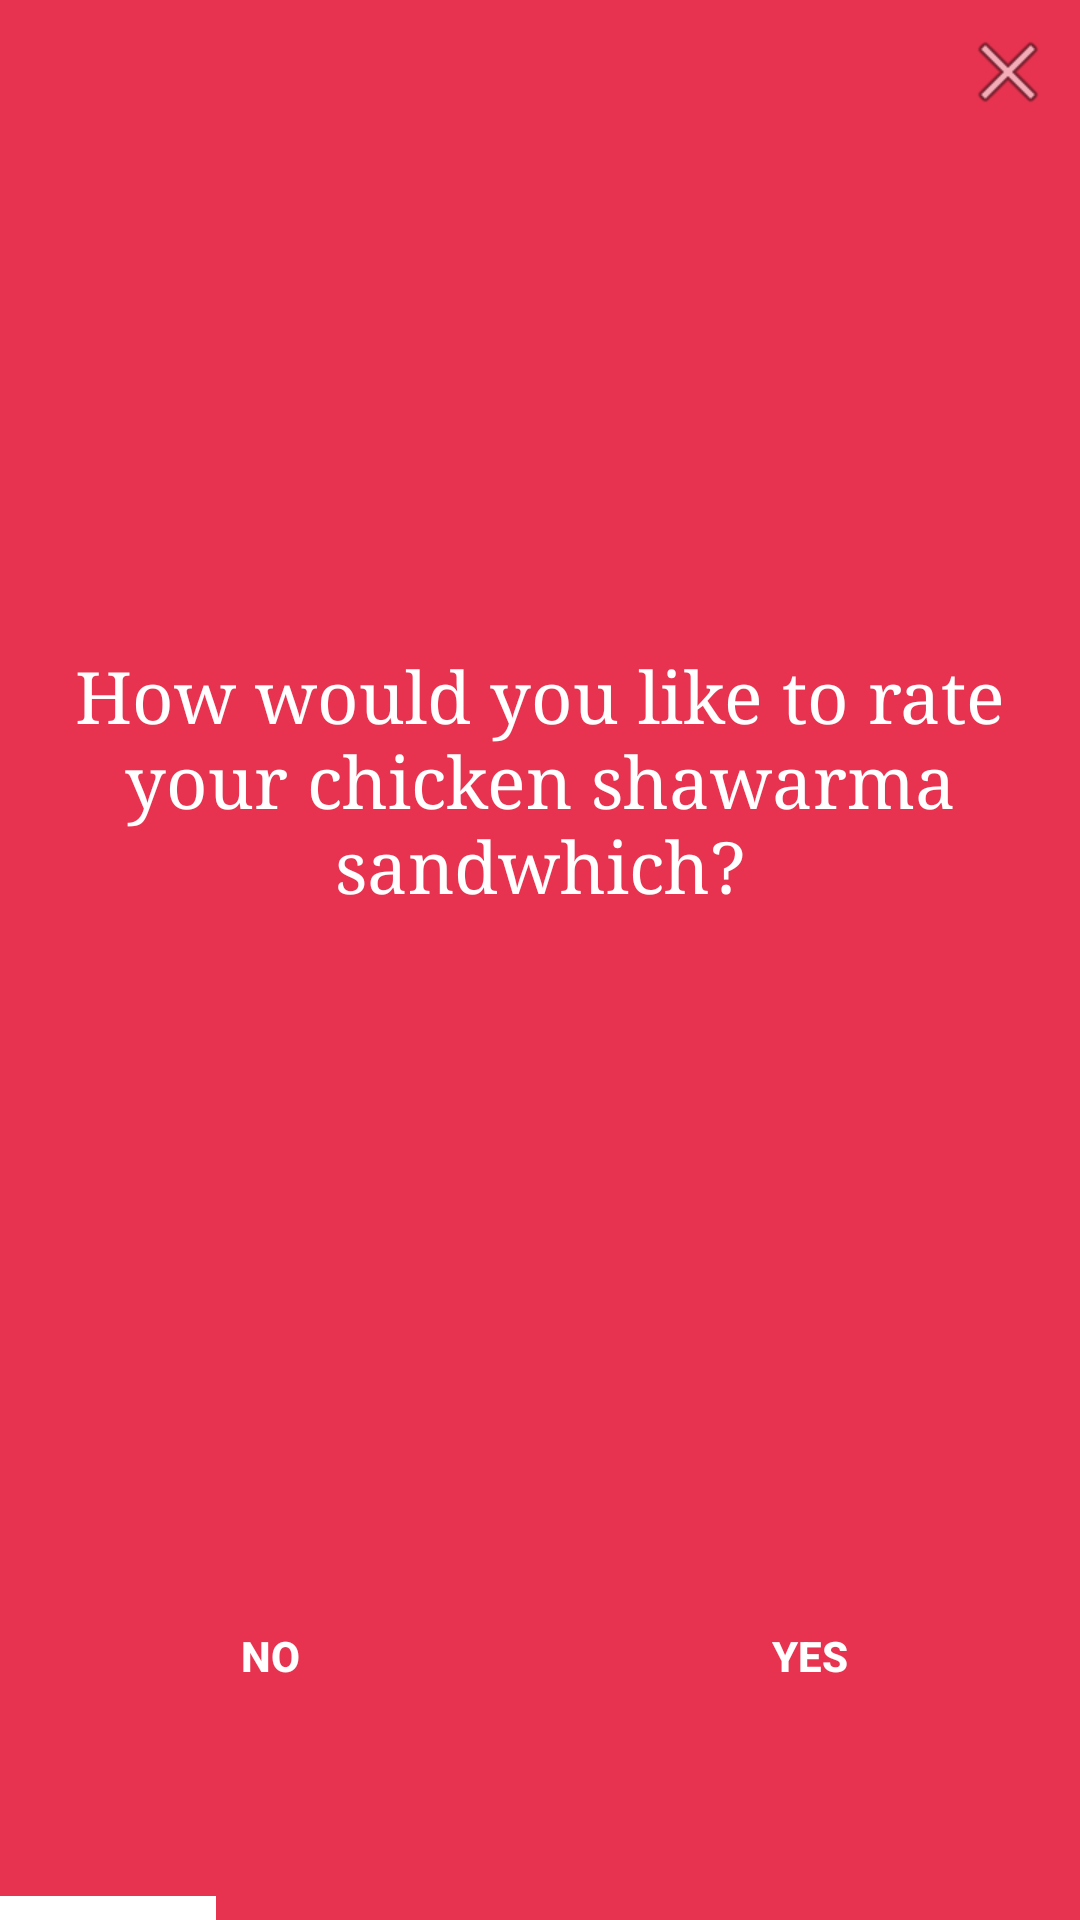

Where to tap for icons on this 1080 × 1920 app screen, as [x,y]:
close clear cancel: [1008,72]
